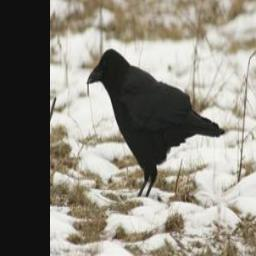Crow: (82, 39, 224, 200)
